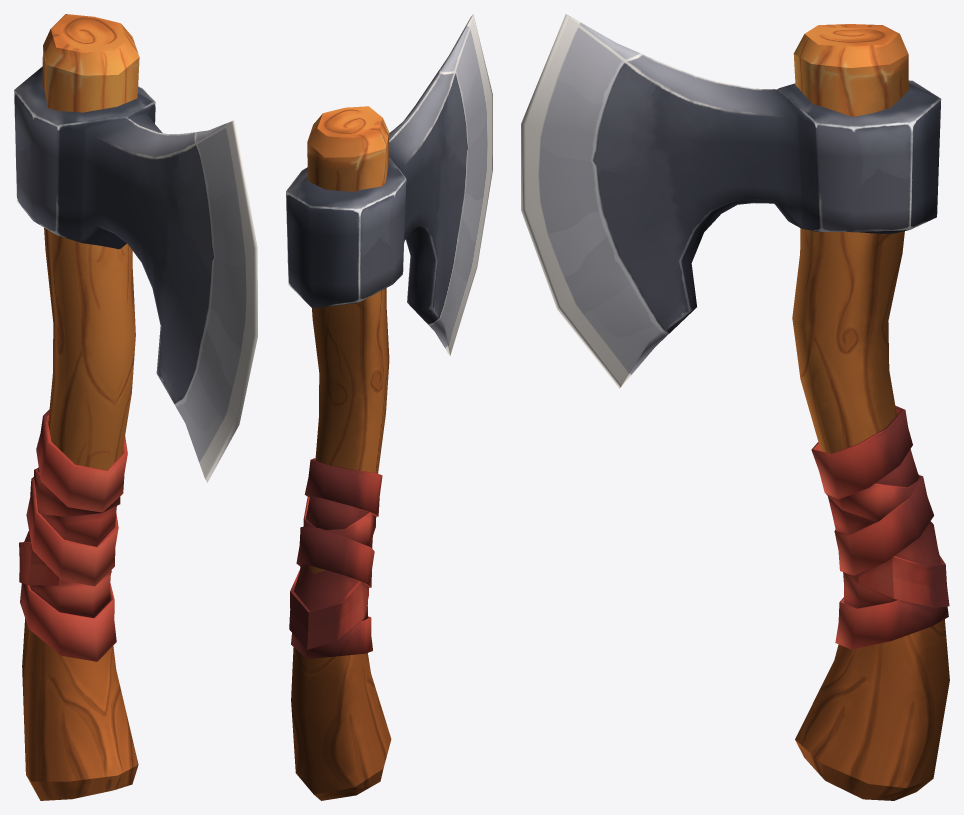
Rendered from Hatchet.gltf.
3 renders of one model, left to right at view 1: azimuth 30°, elevation 25°; view 2: azimuth 150°, elevation 25°; view 3: azimuth 270°, elevation 25°, orthographic. The views are drawn at different scales.
Parts seen in each view (by area): view 1: Axe, Handle, Bandage, Bandage.005, Bandage.007, Bandage.004, Bandage.006, Bandage.002; view 2: Axe, Handle, Bandage, Bandage.006, Bandage.003, Bandage.005, Bandage.004, Bandage.002; view 3: Axe, Handle, Bandage, Bandage.005, Bandage.006, Bandage.002, Bandage.004, Bandage.003, Bandage.007.
Part boxes in pixels (box(x1,y1,x2,y2)): Axe: box(14, 66, 257, 482); Handle: box(22, 14, 139, 800); Bandage: box(26, 409, 127, 586); Bandage.005: box(20, 583, 116, 661); Bandage.007: box(29, 571, 110, 617); Bandage.004: box(37, 467, 116, 546); Bandage.006: box(19, 542, 111, 585); Bandage.002: box(34, 468, 120, 516); Axe: box(286, 14, 492, 356); Handle: box(291, 106, 391, 800); Bandage: box(296, 458, 382, 587); Bandage.006: box(289, 570, 368, 649); Bandage.003: box(294, 564, 358, 611); Bandage.005: box(291, 616, 372, 658); Bandage.004: box(306, 496, 372, 548); Bandage.002: box(303, 497, 376, 546); Axe: box(521, 14, 941, 388); Handle: box(792, 24, 949, 800); Bandage: box(811, 405, 933, 575); Bandage.005: box(835, 597, 948, 649); Bandage.006: box(857, 555, 949, 607); Bandage.002: box(826, 474, 919, 521); Bandage.004: box(828, 449, 918, 534); Bandage.003: box(895, 521, 941, 566); Bandage.007: box(843, 572, 897, 608).
Bounding box in the file's own units: 0.3802 × 2.64 × 1.32.
Materials: 3 (3 with a texture image).
